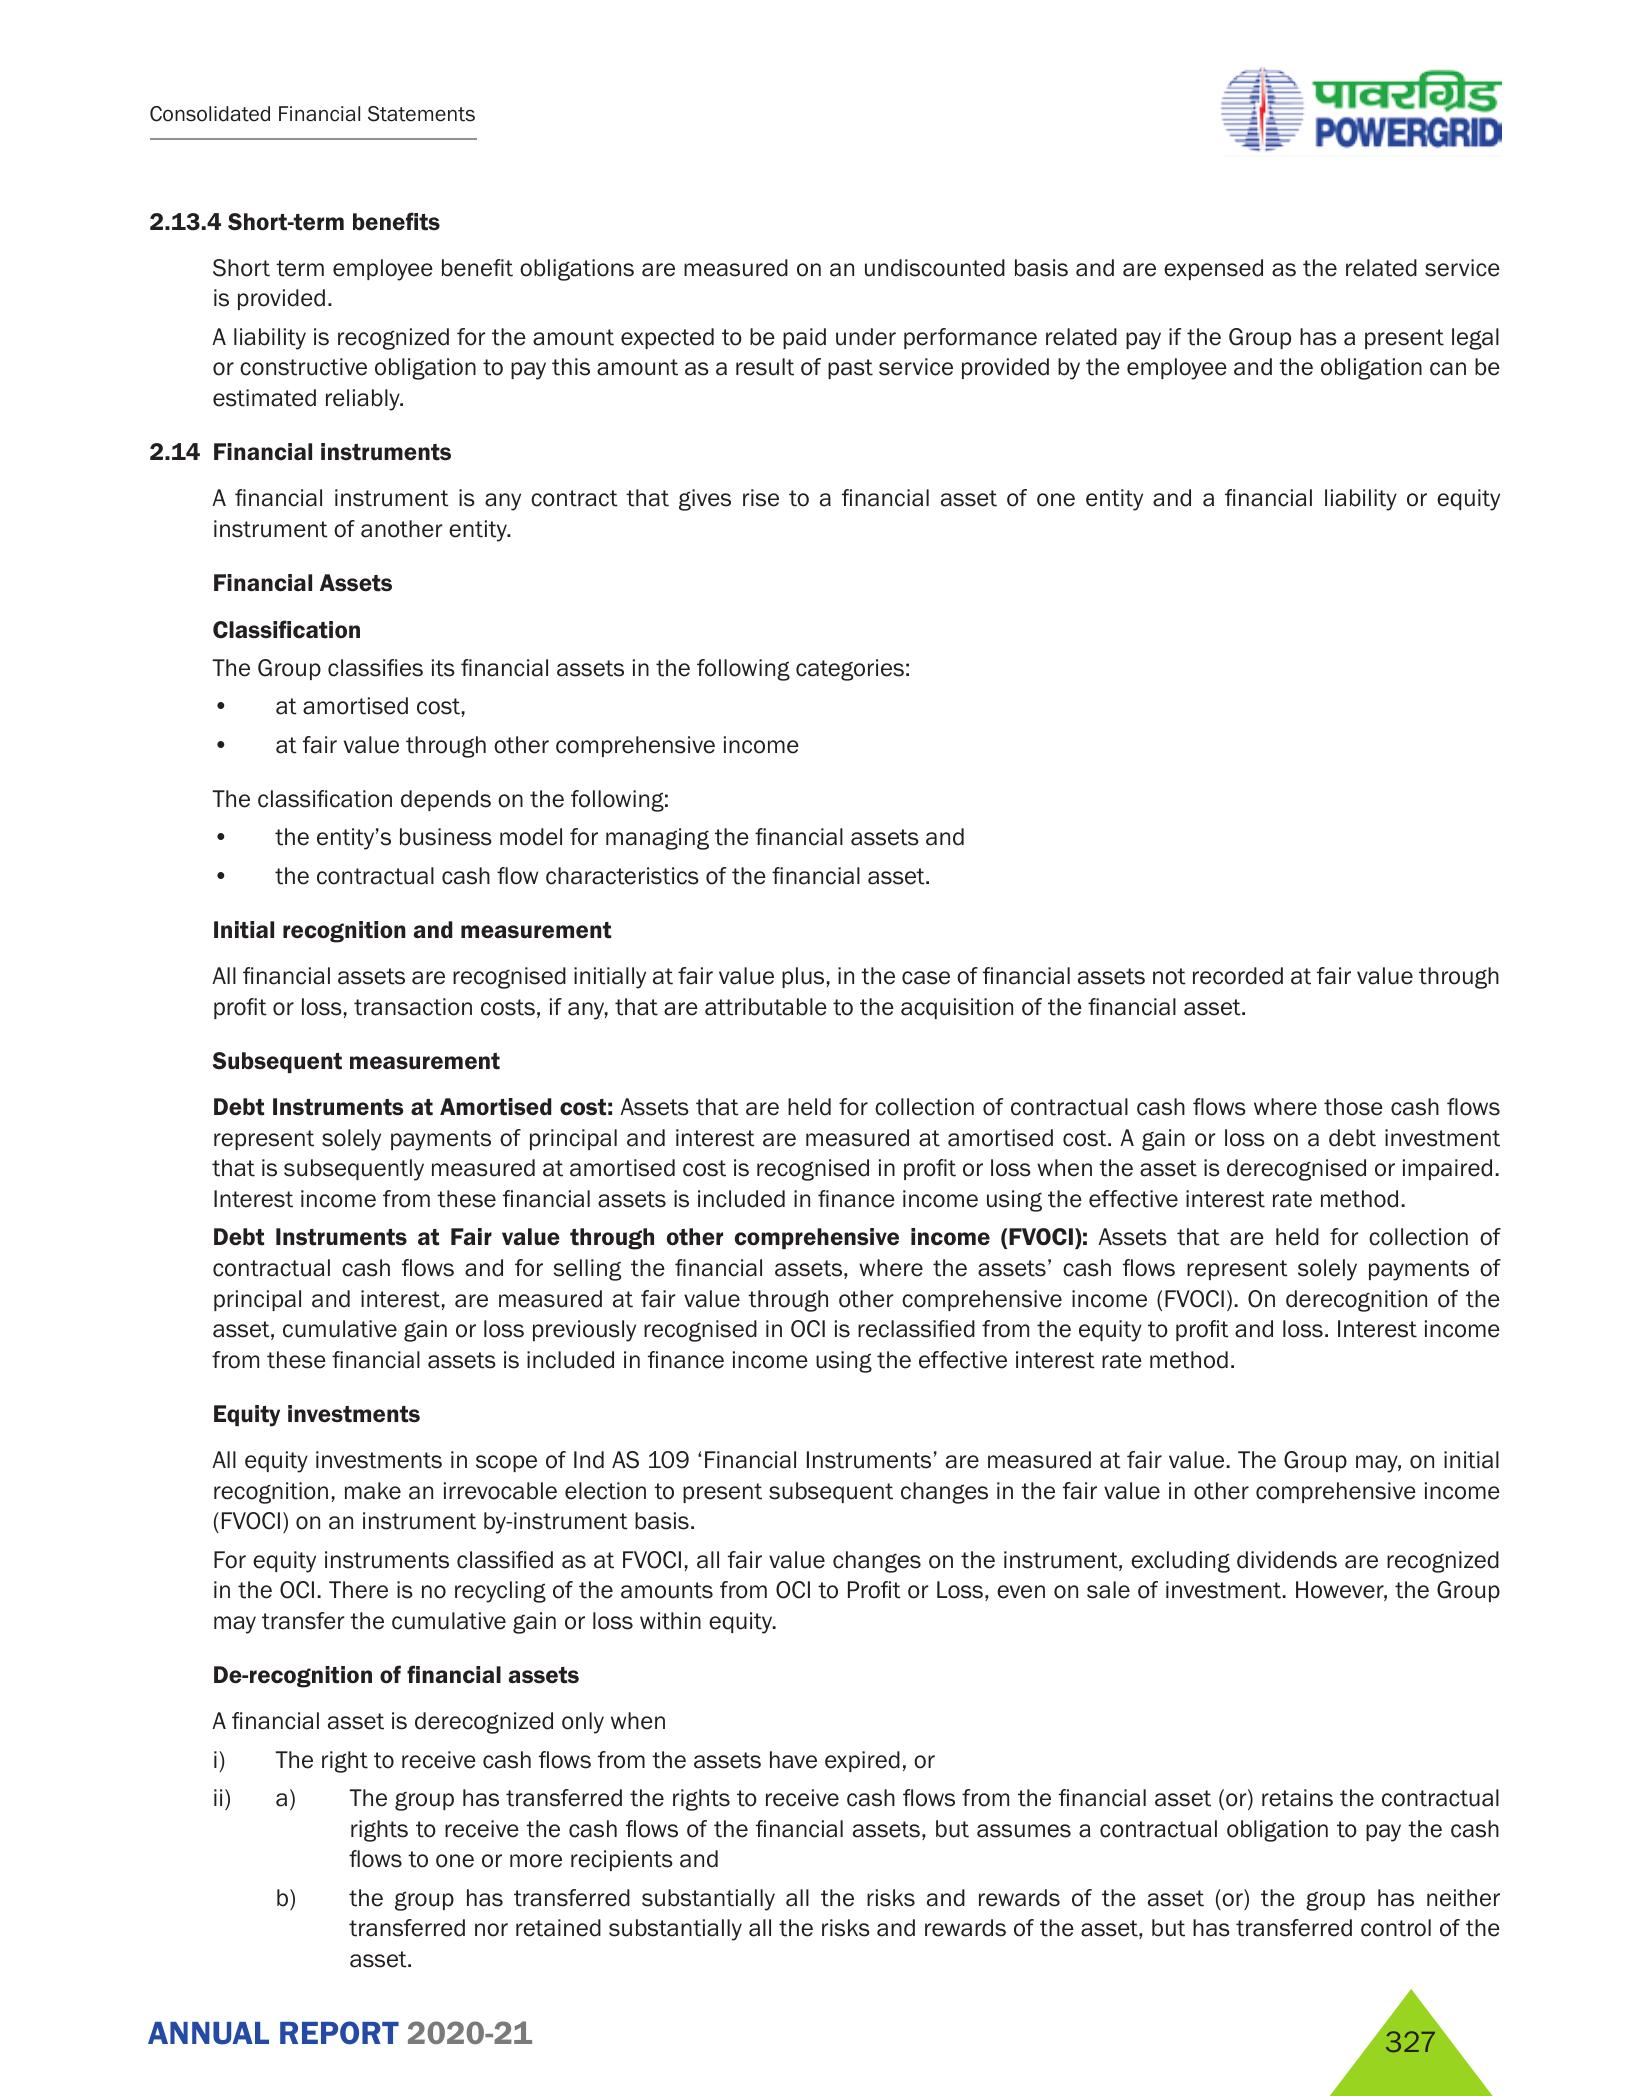Footer: (0, 1956, 1650, 2096)
Header: (0, 0, 1650, 158)
